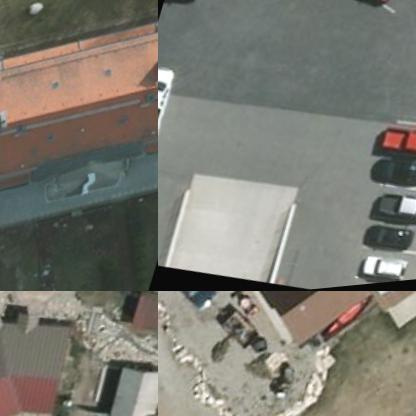car: (355, 216, 415, 264), (359, 252, 415, 289), (374, 121, 415, 169), (374, 188, 415, 231), (158, 62, 176, 141), (330, 0, 406, 18), (383, 157, 415, 194), (164, 0, 207, 13)
pickup: (158, 291, 231, 319)
